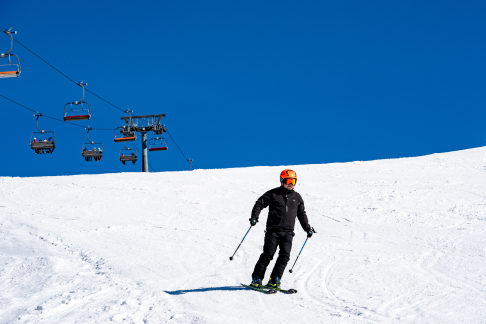skier: (230, 166, 317, 295)
